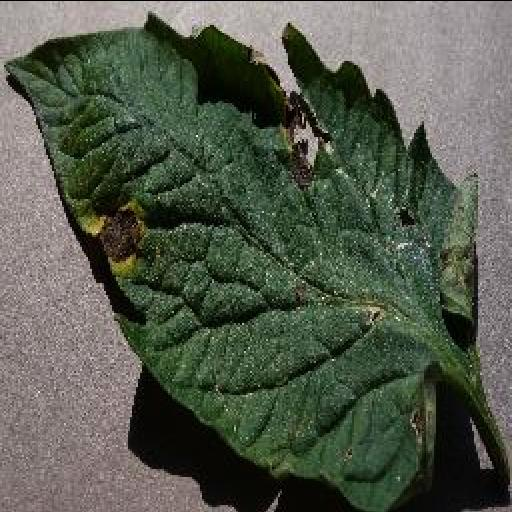disease_tomato: (4, 11, 484, 512)
